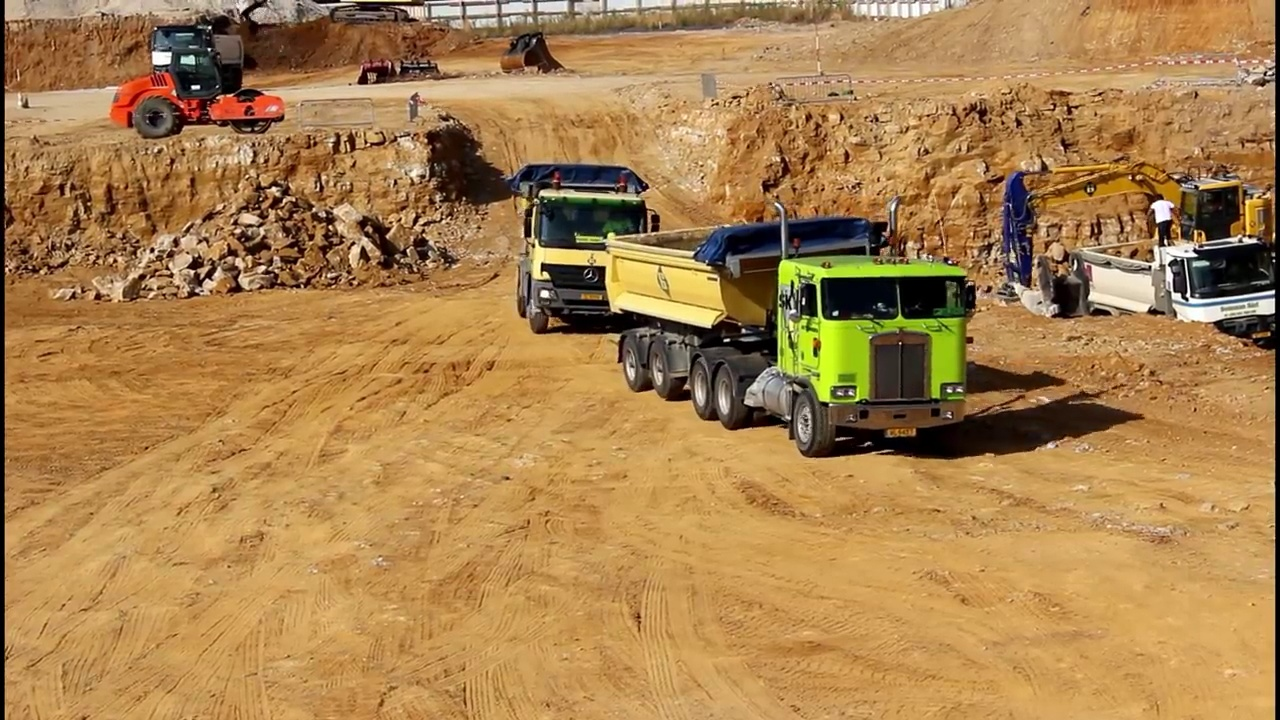compactor: (109, 48, 288, 140)
excavator: (995, 158, 1280, 323)
truck: (600, 199, 984, 459), (509, 162, 665, 334), (1069, 231, 1280, 358), (150, 19, 247, 100)
worker: (1144, 189, 1182, 254)
